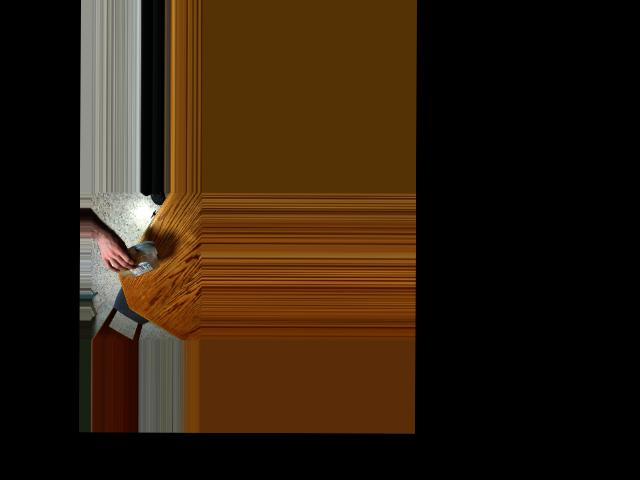cheese: (117, 245, 154, 275)
